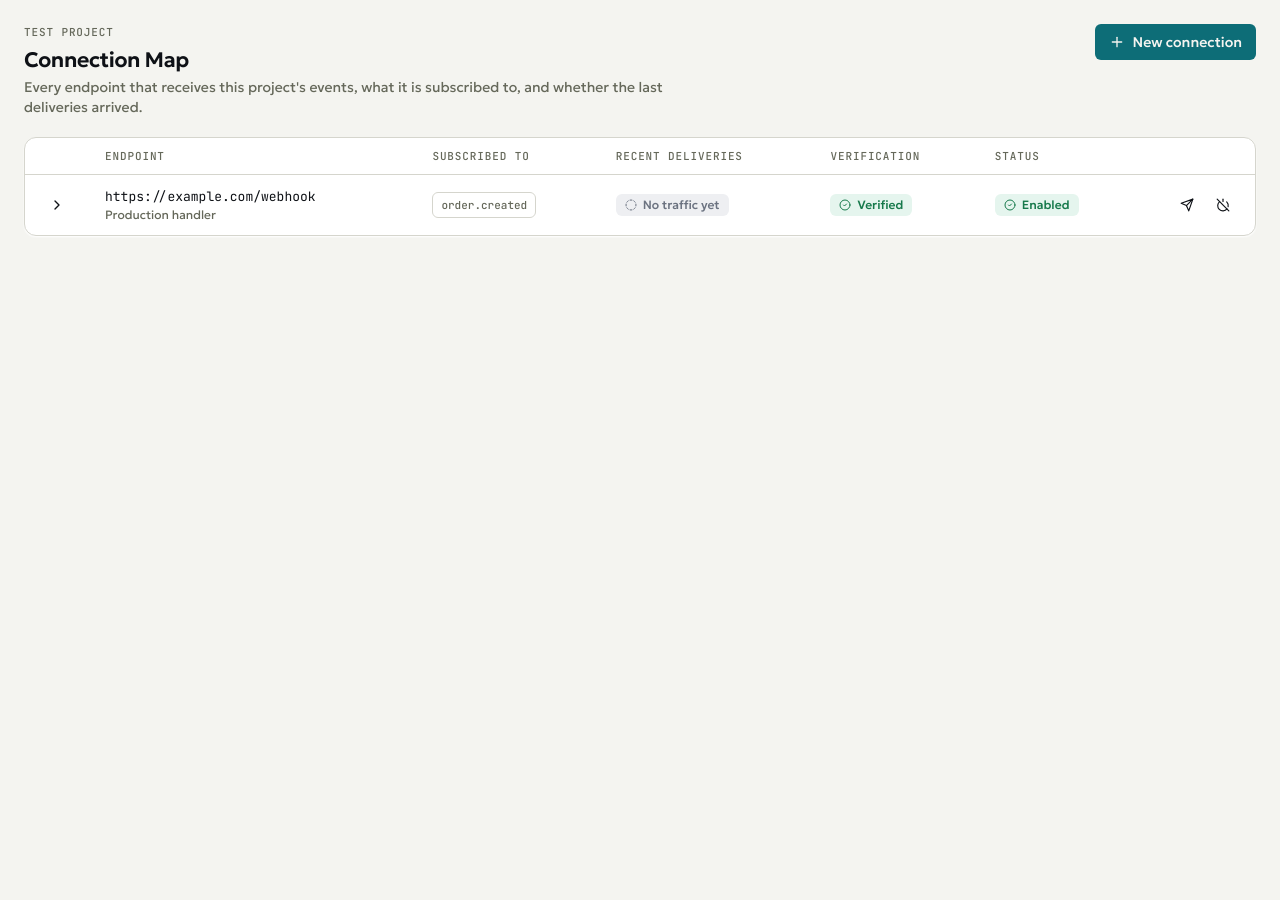
ConnectionsPage — signature scheme › still opens the setup flow from "New connection" after the dialog moved out of this page
Click the button "New connection" at (1175, 42), box [1095, 24, 1256, 60]
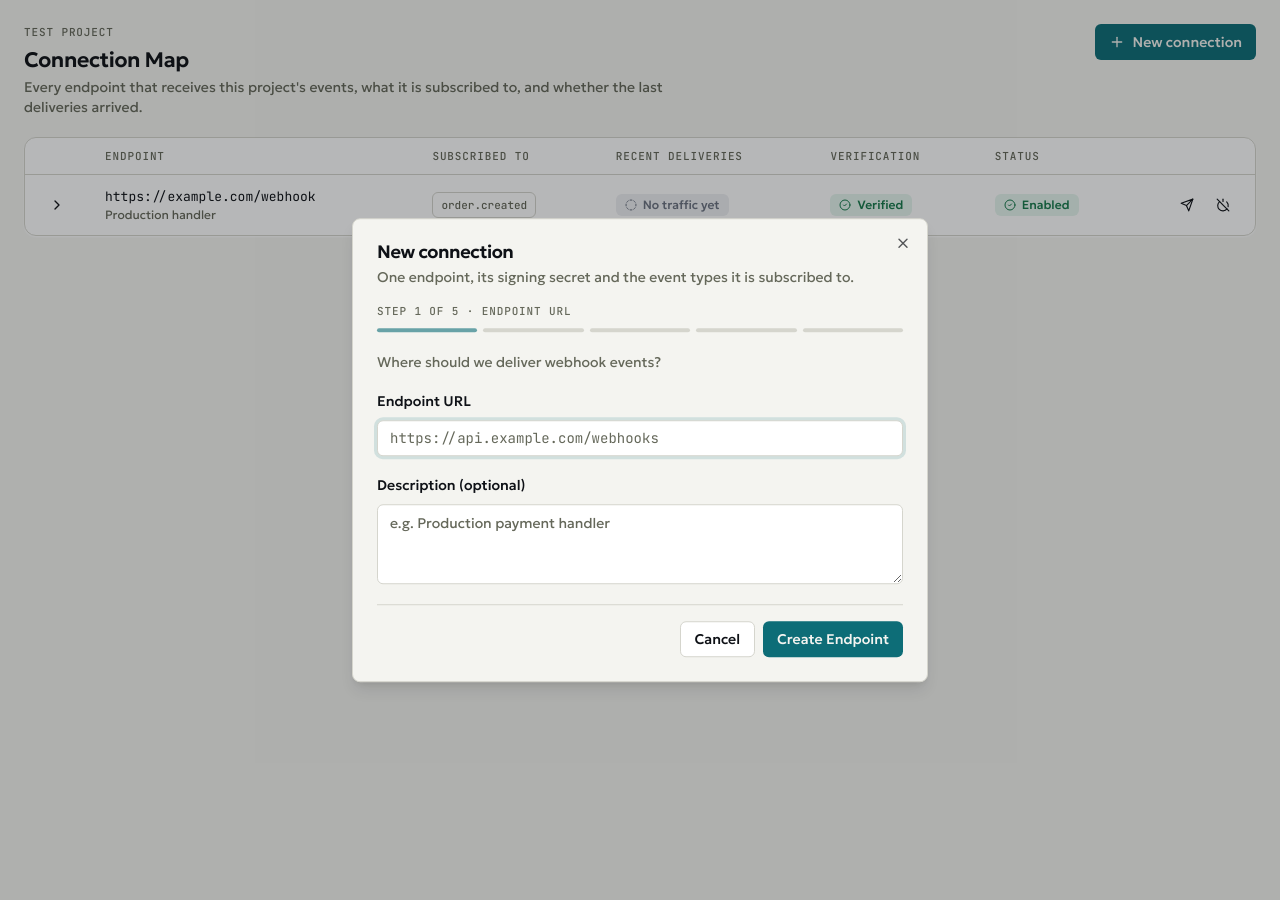
Now the heading "New connection" is shown, box [377, 240, 513, 263]
